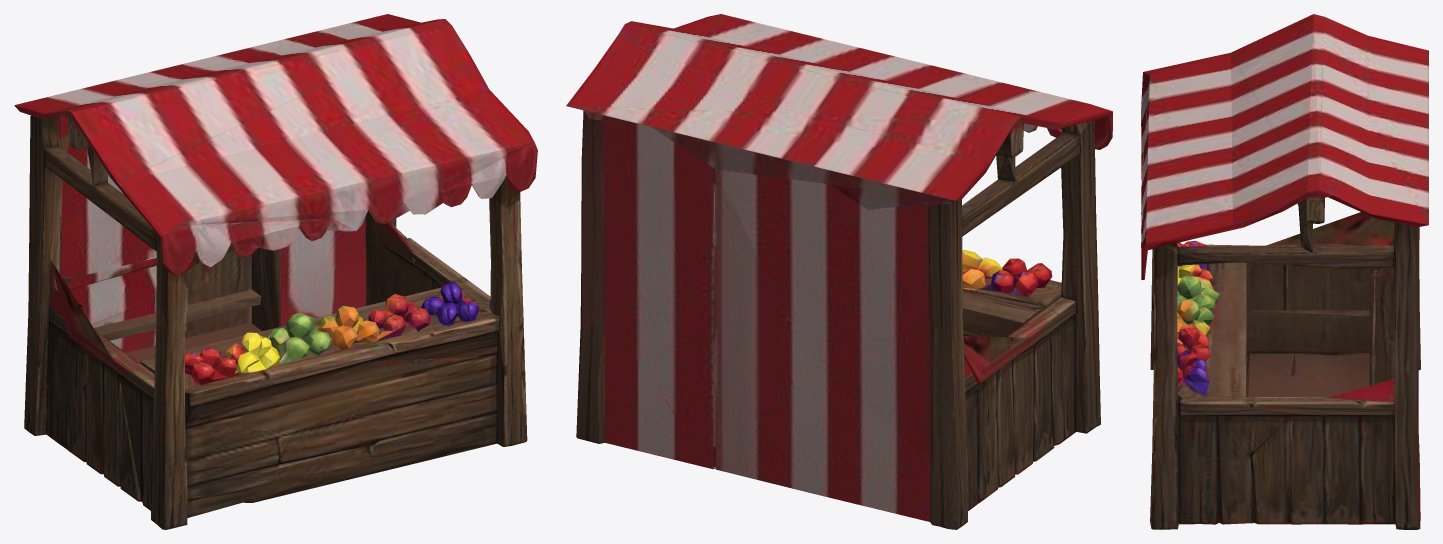
File: market_stall_3d.glb
The picture shows the model from 3 angles, left to right: view 1: azimuth 30°, elevation 25°; view 2: azimuth 150°, elevation 25°; view 3: azimuth 270°, elevation 25°; orthographic projection. The views are drawn at different scales.
Visible parts, largest first — view 1: Mesh_0; view 2: Mesh_0; view 3: Mesh_0.
Boxes of the visible parts, <box> form: Mesh_0: <box>14,14,537,529</box>; Mesh_0: <box>566,14,1112,529</box>; Mesh_0: <box>1141,14,1428,529</box>.
Bounding box in the file's own units: 3 × 2.7 × 2.06.
1 material, 1 textured.
